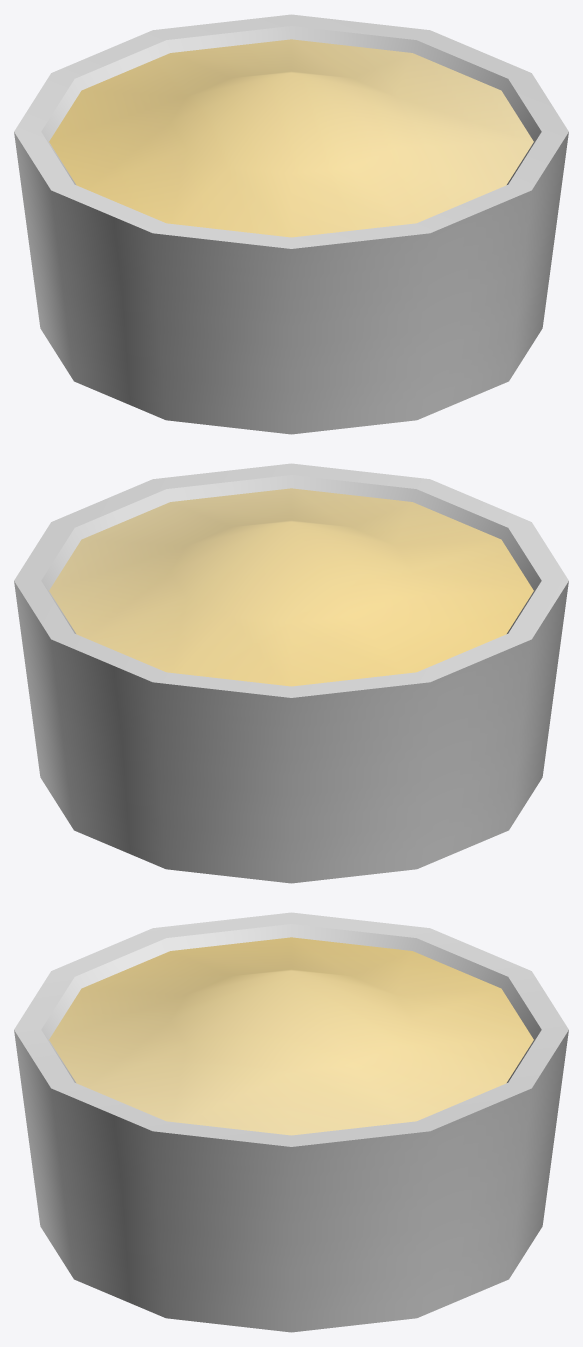
File: DoubleCooked_SauceMayo.fbx
3 views of the same model, one above another, from view 1: azimuth 30°, elevation 25°; view 2: azimuth 150°, elevation 25°; view 3: azimuth 270°, elevation 25° (orthographic).
Parts seen in each view (by area): view 1: DoubleCooked_SauceMayo; view 2: DoubleCooked_SauceMayo; view 3: DoubleCooked_SauceMayo.
Boxes of the visible parts, <box> form: DoubleCooked_SauceMayo: <box>14,14,568,434</box>; DoubleCooked_SauceMayo: <box>14,463,568,883</box>; DoubleCooked_SauceMayo: <box>14,912,568,1332</box>.
Size of the model in its own units: 6.83 by 3.47 by 6.83.
Materials: 1 (1 with a texture image).
